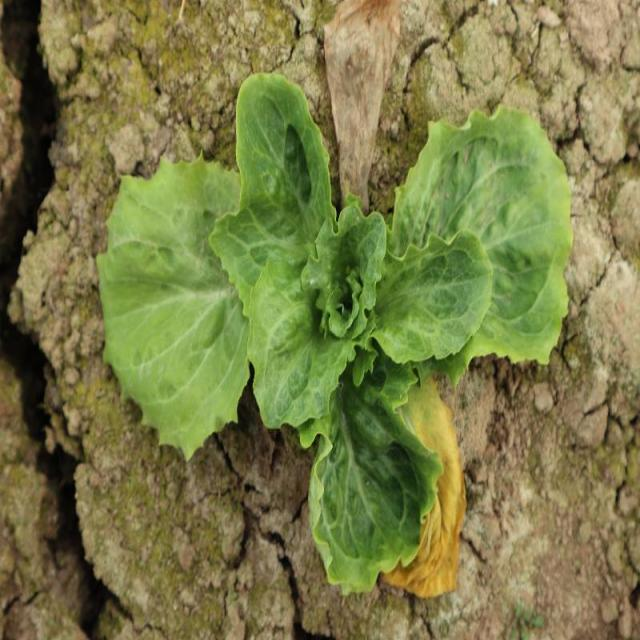crop: (99, 72, 573, 599)
